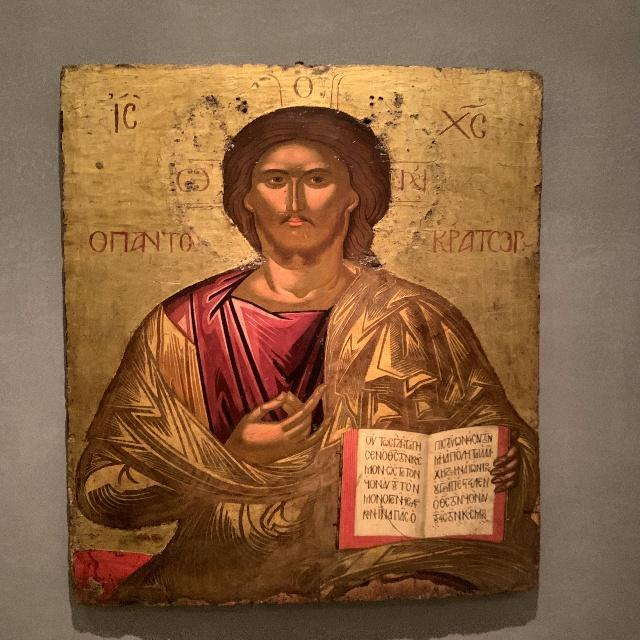aura: (169, 79, 446, 270)
book: (342, 424, 506, 546)
christ_pantocrator: (76, 74, 535, 594)
hand: (222, 383, 335, 469)
